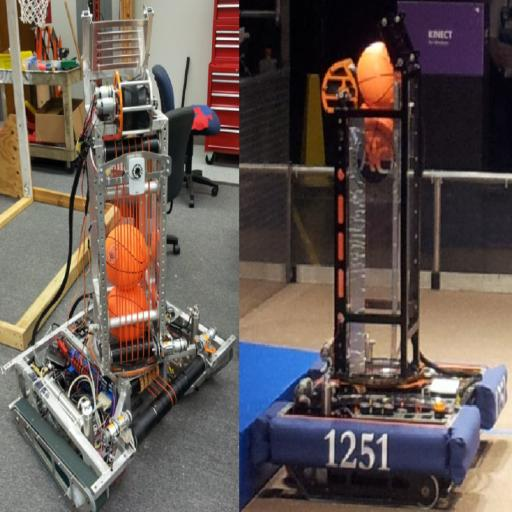robot: (270, 7, 509, 498), (19, 4, 234, 495)
